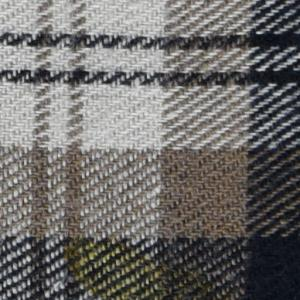Oil Stain: (61, 235, 241, 300)
